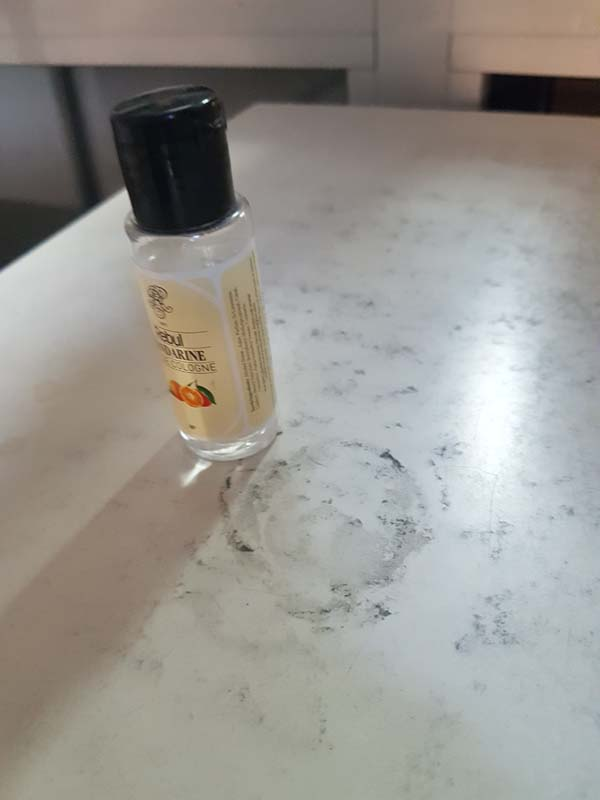redbulkolonya: (105, 82, 283, 458)
